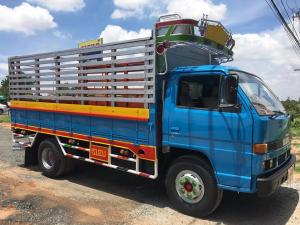truck: (11, 48, 296, 216)
